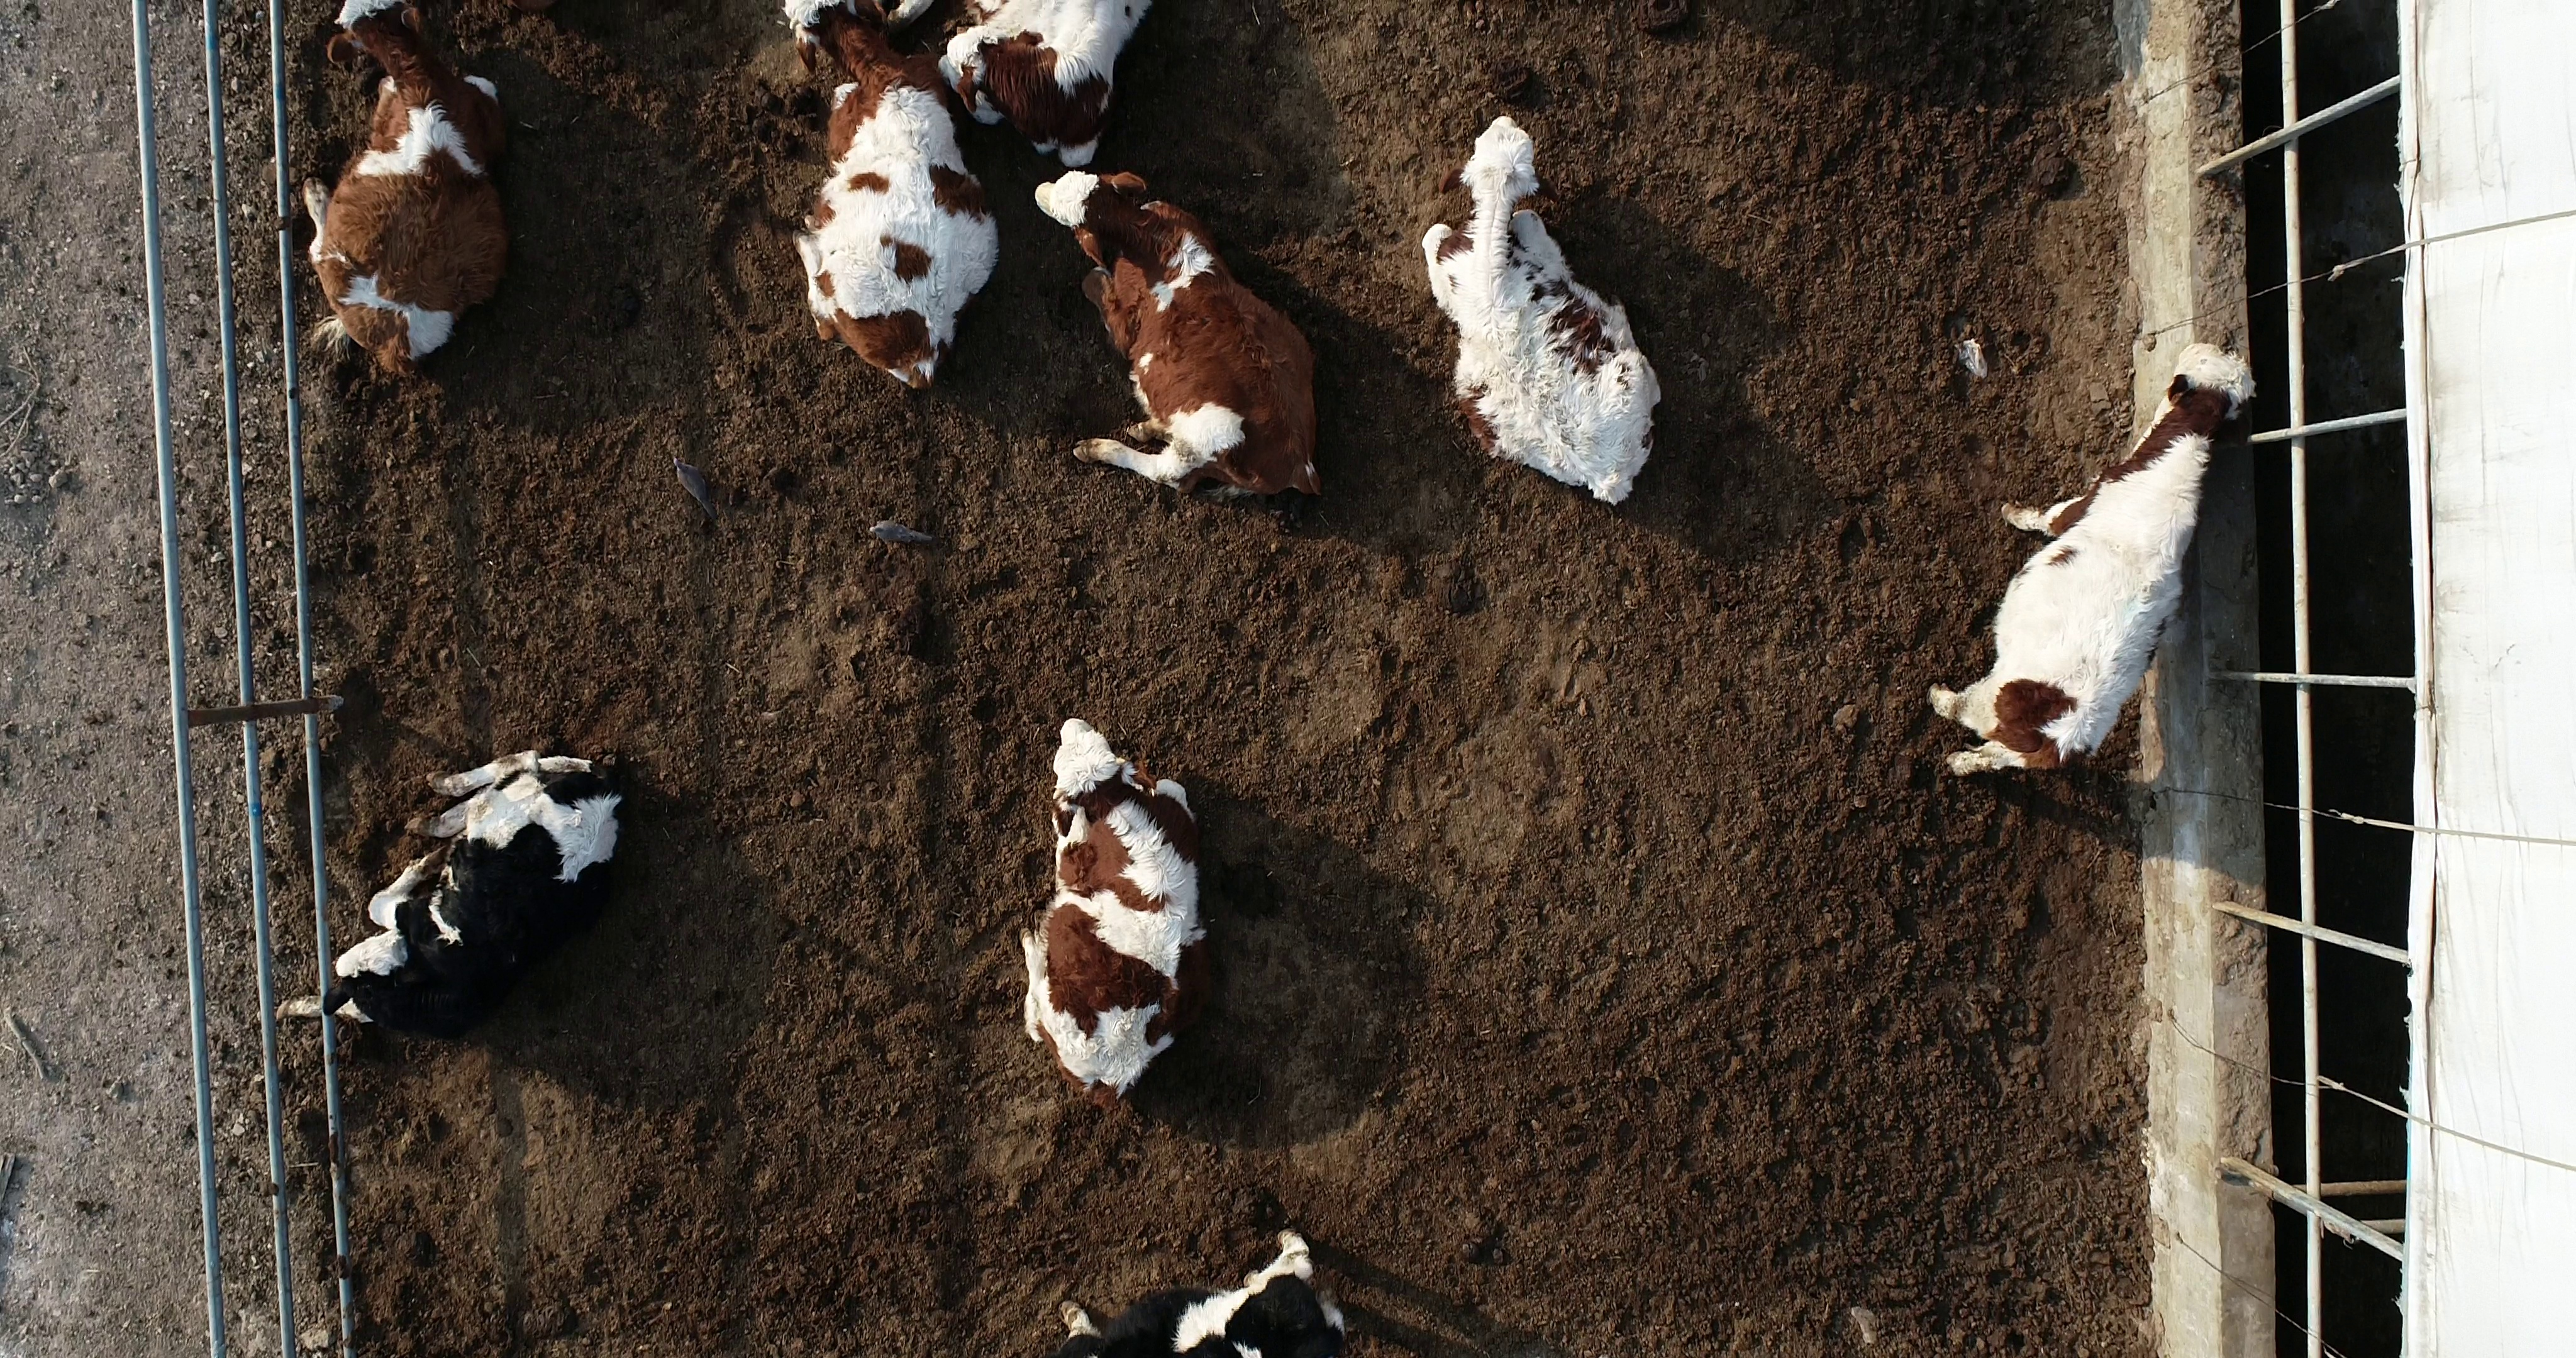cattle: (1922, 339, 2264, 782), (1416, 109, 1670, 509), (1014, 712, 1211, 1116)
